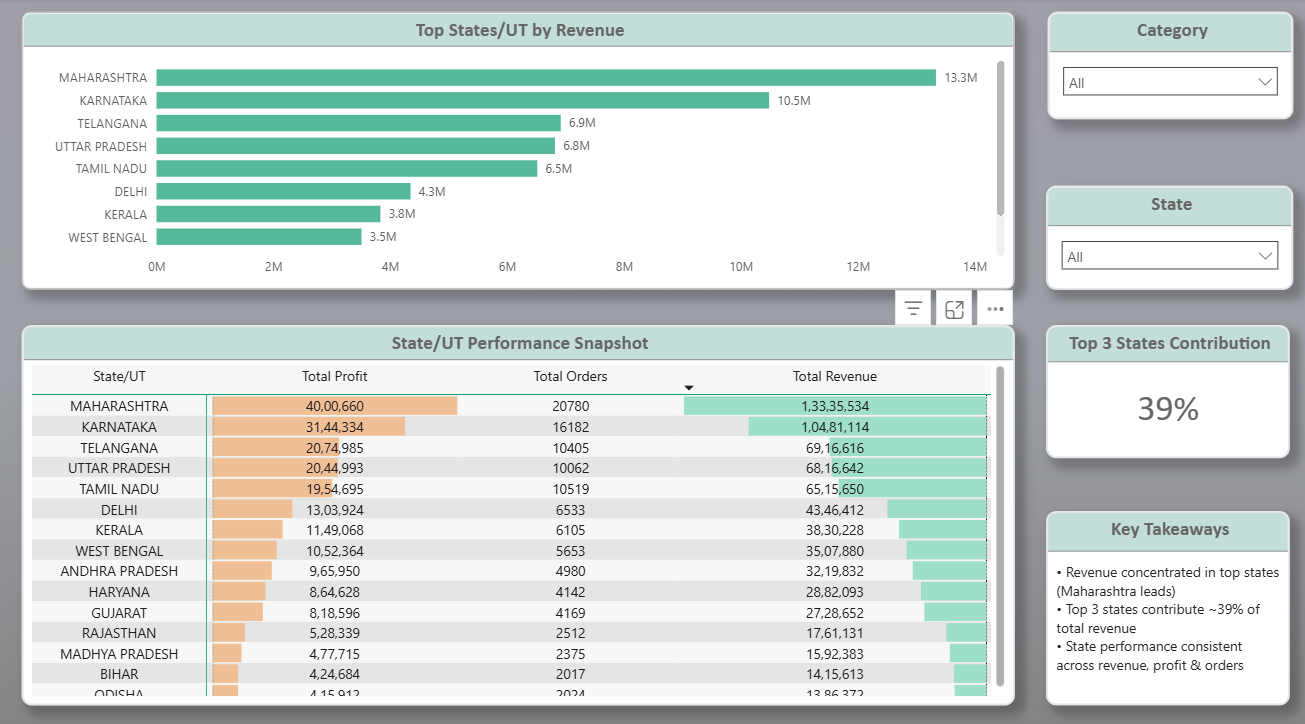

The dashboard page shown, as its layout file describes it:
{"tool":"powerbi","page":{"name":"Regional & Channel Analysis","canvas":[1280,720],"ordinal":2},"visuals":[{"type":"textbox","title":"Key Takeaways","box":[1027,498,236.9,188.8],"z":0},{"type":"slicer","title":"Category","fields":{"Values":["Dim_Product.Category"]},"box":[1028.7,12.7,238.5,104.4],"z":1000},{"type":"slicer","title":"State","fields":{"Values":["Dim_State.Final_State"]},"box":[1027,181.7,240.2,101],"z":2000},{"type":"pivotTable","title":"State/UT Performance Snapshot","fields":{"Rows":["Dim_State.Final_State"],"Values":["All Measures.Total Profit","All Measures.Total Orders","All Measures.Total Revenue"]},"box":[33.1,317.5,964.1,369.4],"z":3000},{"type":"barChart","title":"Top States/UT by Revenue","fields":{"Y":["All Measures.Total Revenue"],"Category":["Dim_State.Final_State"]},"box":[33.1,12.7,964.1,270],"z":4000},{"type":"card","title":"Top 3 States Contribution","fields":{"Values":["All Measures.Top 3 States Revenue %"]},"box":[1027,317.5,236.9,129.2],"z":5000}]}

Visuals, with their boxes in screenshot pixels (x1, y1, x2, y2), scaled from the page's 1280x720 canvas onto the 1305x724 screenshot:
"Key Takeaways" textbox: <region>1047, 501, 1289, 691</region>
"Category" slicer: <region>1049, 13, 1292, 118</region>
"State" slicer: <region>1047, 183, 1292, 284</region>
"State/UT Performance Snapshot" pivotTable: <region>34, 319, 1017, 691</region>
"Top States/UT by Revenue" barChart: <region>34, 13, 1017, 284</region>
"Top 3 States Contribution" card: <region>1047, 319, 1289, 449</region>
